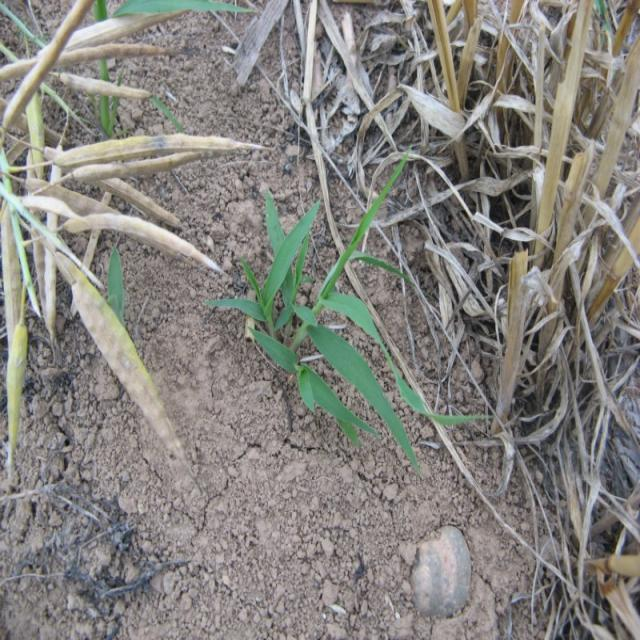bg: (206, 158, 493, 472)
